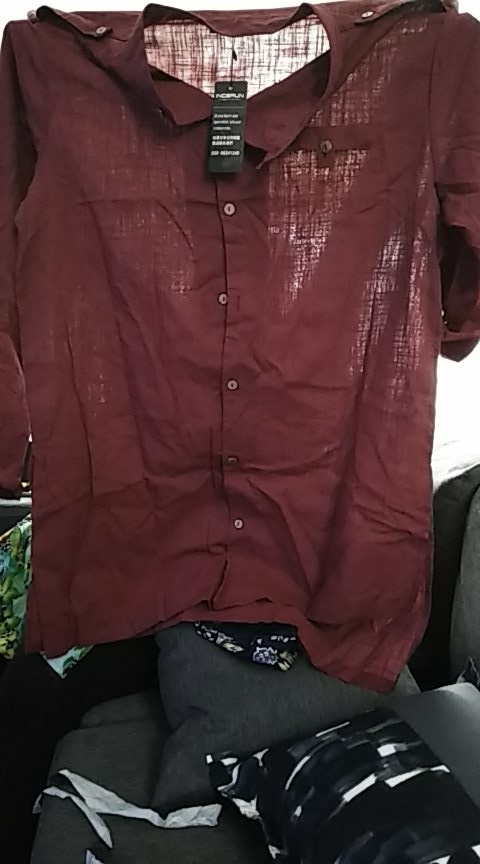shirts: (3, 5, 480, 690)
